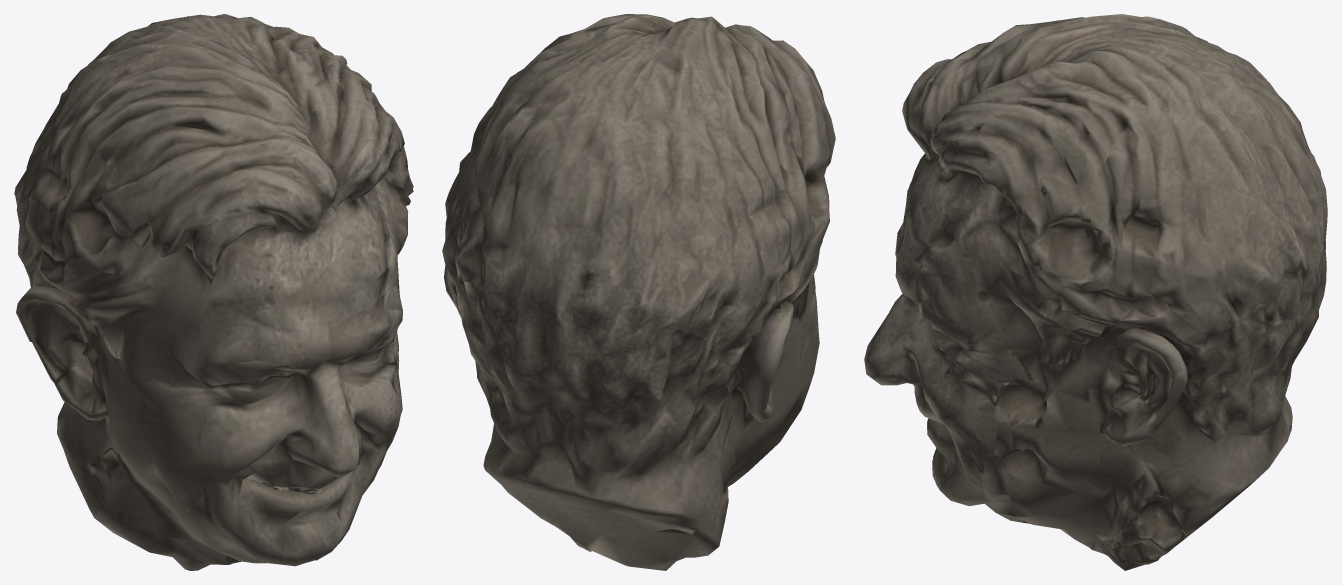
Rendered from Zarnecki-low.glb.
3 views of the same model, side by side, from view 1: azimuth 30°, elevation 25°; view 2: azimuth 150°, elevation 25°; view 3: azimuth 270°, elevation 25° (orthographic). The views are drawn at different scales.
Size of the model in its own units: 1.27 by 1.9 by 1.51.
Materials: 1 (1 with a texture image).
